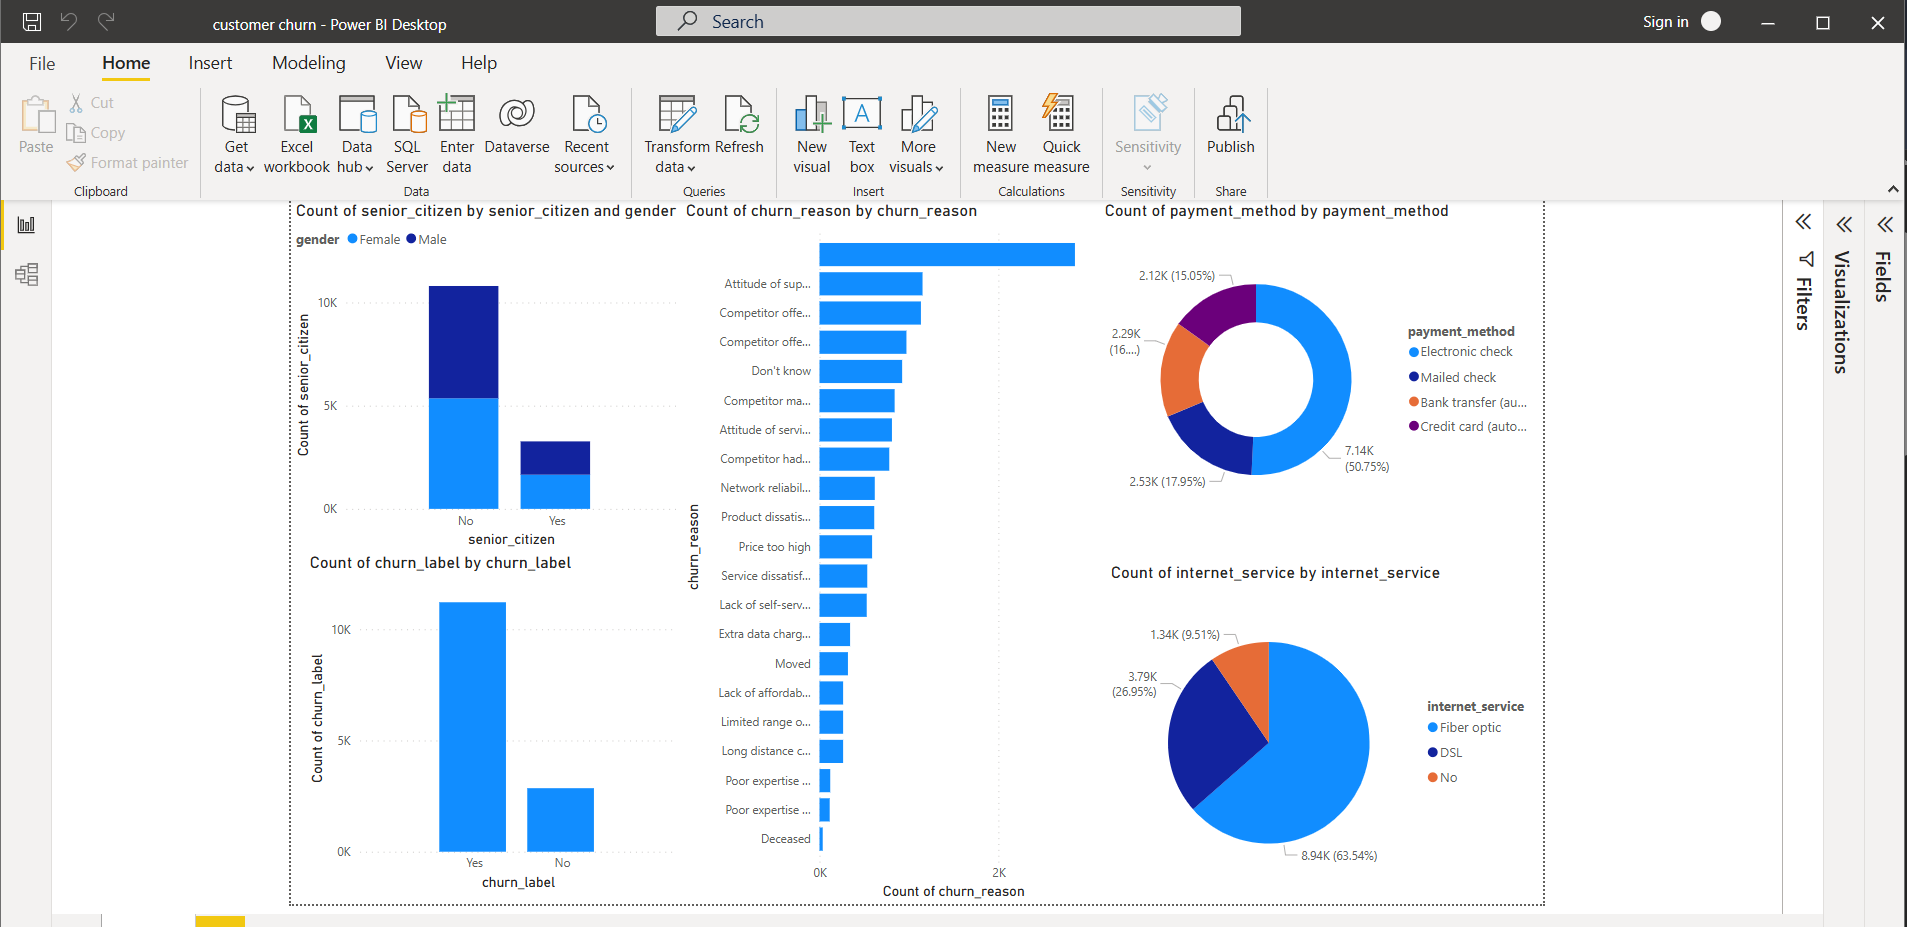

The page's visual inventory and layout, read from the dashboard file:
{"tool":"powerbi","page":{"name":"Page 1","canvas":[1280,720],"ordinal":0},"visuals":[{"type":"columnChart","fields":{"Category":["customer_churn.senior_citizen"],"Y":["CountNonNull(customer_churn.senior_citizen)"],"Series":["customer_churn.gender"]},"box":[0,0,399.3,359.5],"z":0},{"type":"donutChart","fields":{"Category":["customer_churn.payment_method"],"Y":["CountNonNull(customer_churn.payment_method)"]},"box":[827.4,0,452.8,348.5],"z":1000},{"type":"pieChart","fields":{"Category":["customer_churn.internet_service"],"Y":["CountNonNull(customer_churn.internet_service)"]},"box":[832.9,370.5,447.3,349.9],"z":2000},{"type":"clusteredBarChart","fields":{"Category":["customer_churn.churn_reason"],"Y":["CountNonNull(customer_churn.churn_reason)"]},"box":[399.3,0,428.1,720.4],"z":3000},{"type":"clusteredColumnChart","fields":{"Y":["CountNonNull(customer_churn.churn_label)"],"Category":["customer_churn.churn_label"]},"box":[13.7,360.9,385.6,349.9],"z":4000}]}

Visuals, with their boxes in screenshot pixels (x1, y1, x2, y2):
columnChart - customer_churn.senior_citizen x CountNonNull(customer_churn.senior_citizen): 323, 35, 813, 476
donutChart - customer_churn.payment_method x CountNonNull(customer_churn.payment_method): 1338, 35, 1893, 462
pieChart - customer_churn.internet_service x CountNonNull(customer_churn.internet_service): 1345, 489, 1893, 919
clusteredBarChart - customer_churn.churn_reason x CountNonNull(customer_churn.churn_reason): 813, 35, 1338, 919
clusteredColumnChart - CountNonNull(customer_churn.churn_label) x customer_churn.churn_label: 340, 478, 813, 907
